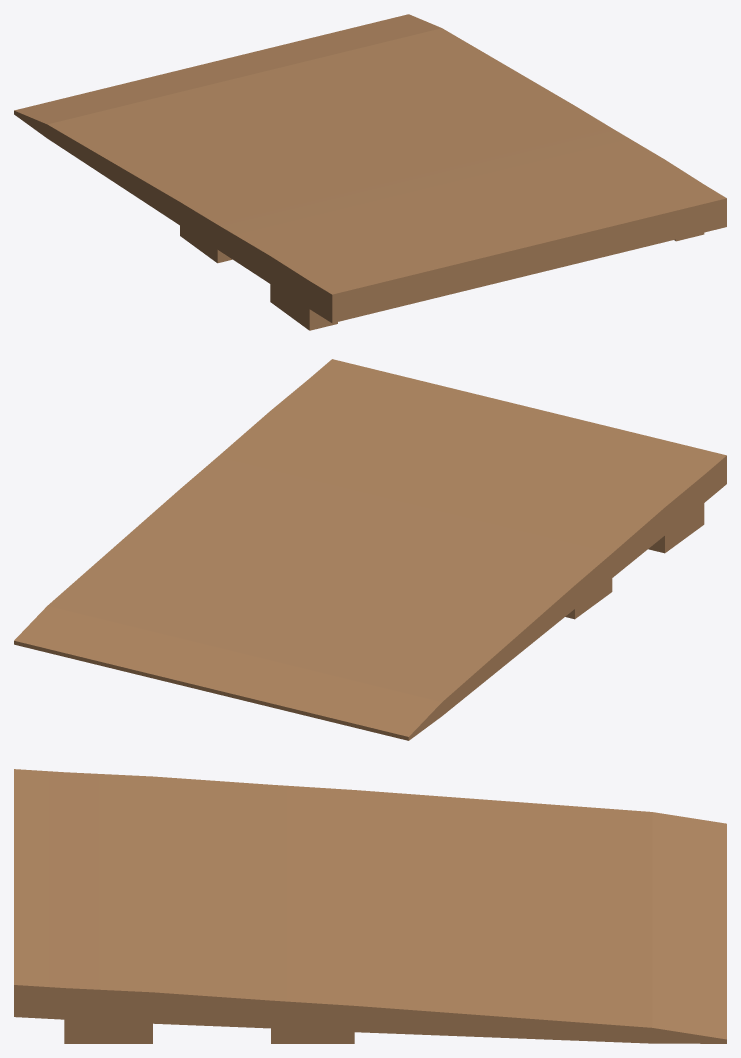
File: Small Ramp.fbx
The picture shows the model from 3 angles, top to bottom: view 1: azimuth 30°, elevation 25°; view 2: azimuth 150°, elevation 25°; view 3: azimuth 270°, elevation 25°; orthographic projection. The views are drawn at different scales.
Visible parts, largest first — view 1: Ramp_Small; view 2: Ramp_Small; view 3: Ramp_Small.
Boxes of the visible parts, bbox=[...] form: Ramp_Small: bbox=[14, 14, 726, 330]; Ramp_Small: bbox=[14, 359, 726, 740]; Ramp_Small: bbox=[14, 769, 726, 1043].
Bounding box in the file's own units: 7.82 × 0.9972 × 10.92.
